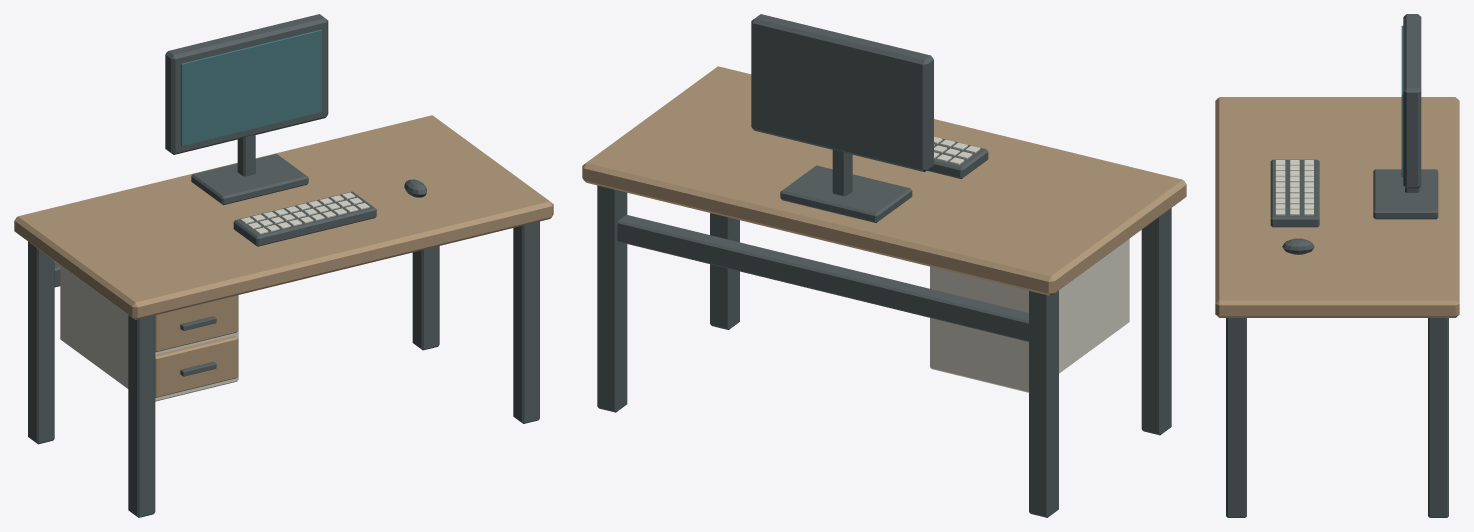
Rendered from office_desk.fbx.
3 renders of one model, left to right at view 1: azimuth 30°, elevation 25°; view 2: azimuth 150°, elevation 25°; view 3: azimuth 270°, elevation 25°, orthographic. The views are drawn at different scales.
Visible parts, largest first — view 1: office_desk; view 2: office_desk; view 3: office_desk.
Boxes of the visible parts, left/top/right/bottom form: office_desk: left=14, top=14, right=553, bottom=517; office_desk: left=582, top=14, right=1186, bottom=517; office_desk: left=1215, top=14, right=1459, bottom=517.
Size of the model in its own units: 1.5 by 1.25 by 0.75.
